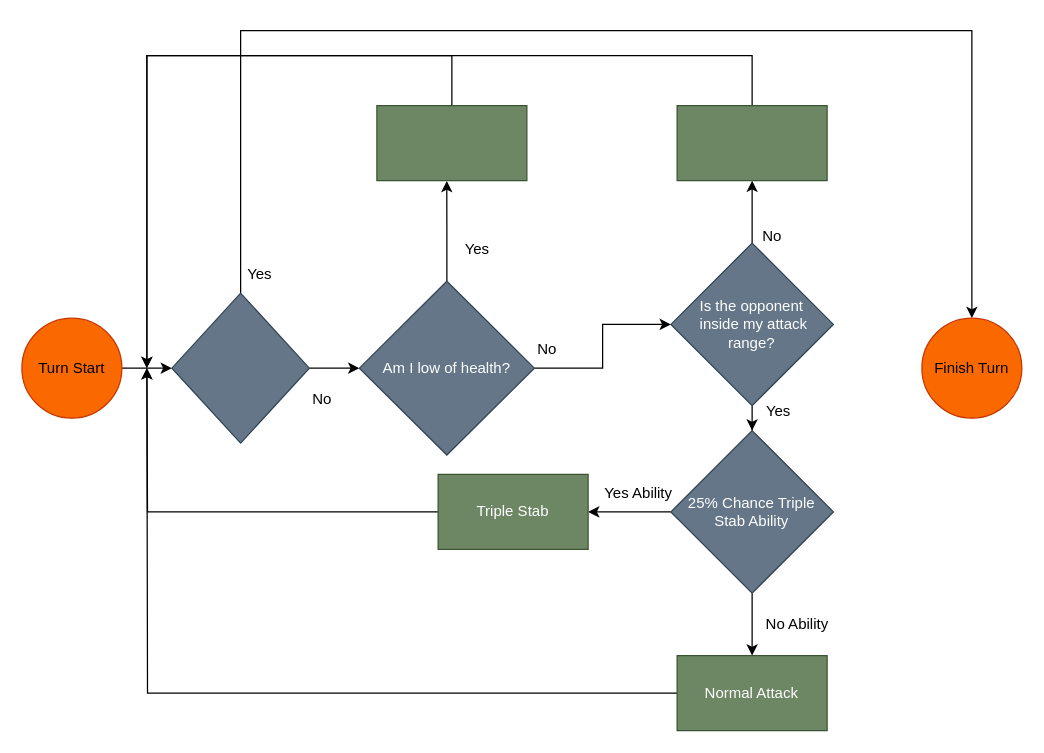
Image size: 1044x753. Some labels were removed from this diagram. Here are the shapes that lost their labels. From the top down, the centre of each, then its label:
At point (451, 142): "Move Away".
At point (751, 142): "Get Closer".
At point (240, 367): "Have I done two actions?".
